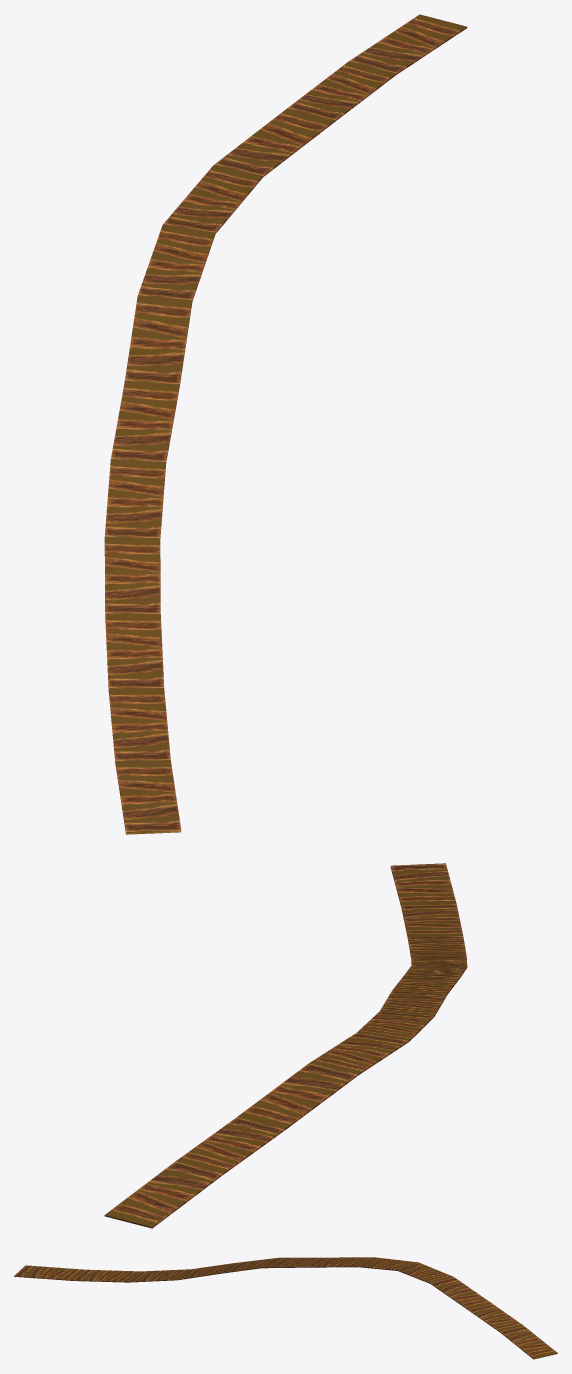
Rendered from SWORDLIGHT20_LOFT01.fbx.
3 views of the same model, one above another, from view 1: azimuth 30°, elevation 25°; view 2: azimuth 210°, elevation 25°; view 3: azimuth 270°, elevation 25° (orthographic). The views are drawn at different scales.
Visible parts, largest first — view 1: SWORDLIGHT20_LOFT01; view 2: SWORDLIGHT20_LOFT01; view 3: SWORDLIGHT20_LOFT01.
Boxes of the visible parts, x1,y1,x2,y2 form: SWORDLIGHT20_LOFT01: (104,14,467,834); SWORDLIGHT20_LOFT01: (104,863,467,1228); SWORDLIGHT20_LOFT01: (14,1257,557,1359).
Size of the model in its own units: 285671 by 74702 by 316961.
1 material, 1 textured.
